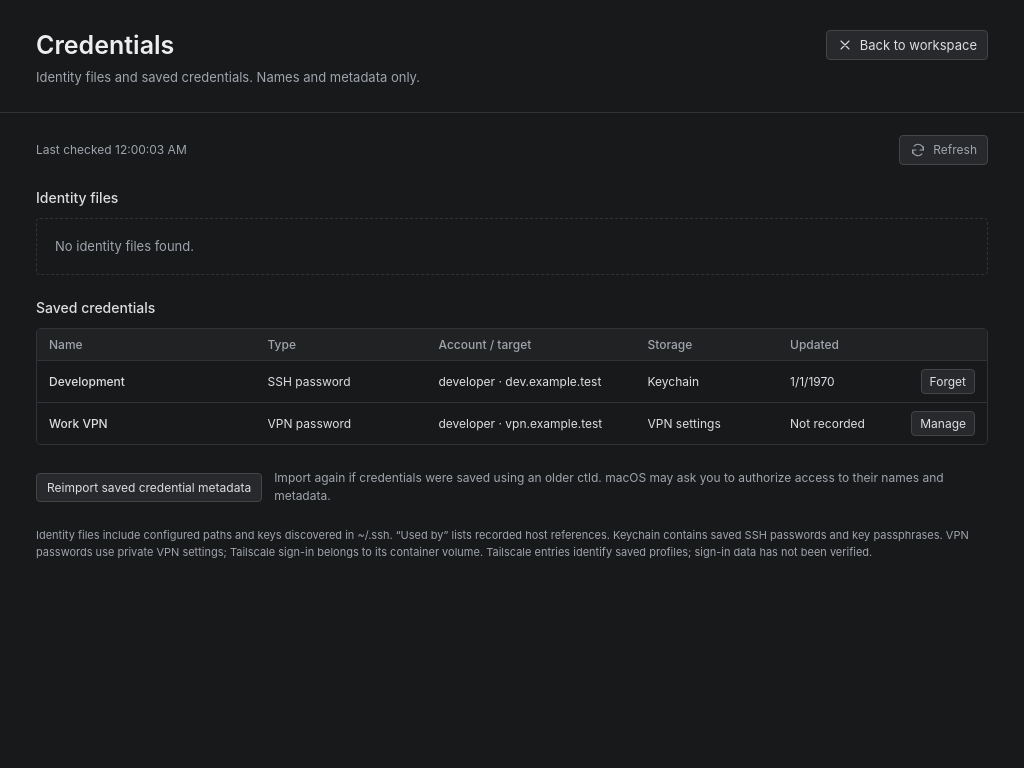
Test case: Credentials page › does not restore a forgotten item from an older in-flight refresh
Check: the table is shown, box [37,329,987,444]
Click the button "Refresh" at (944, 150), box [899,134,988,164]
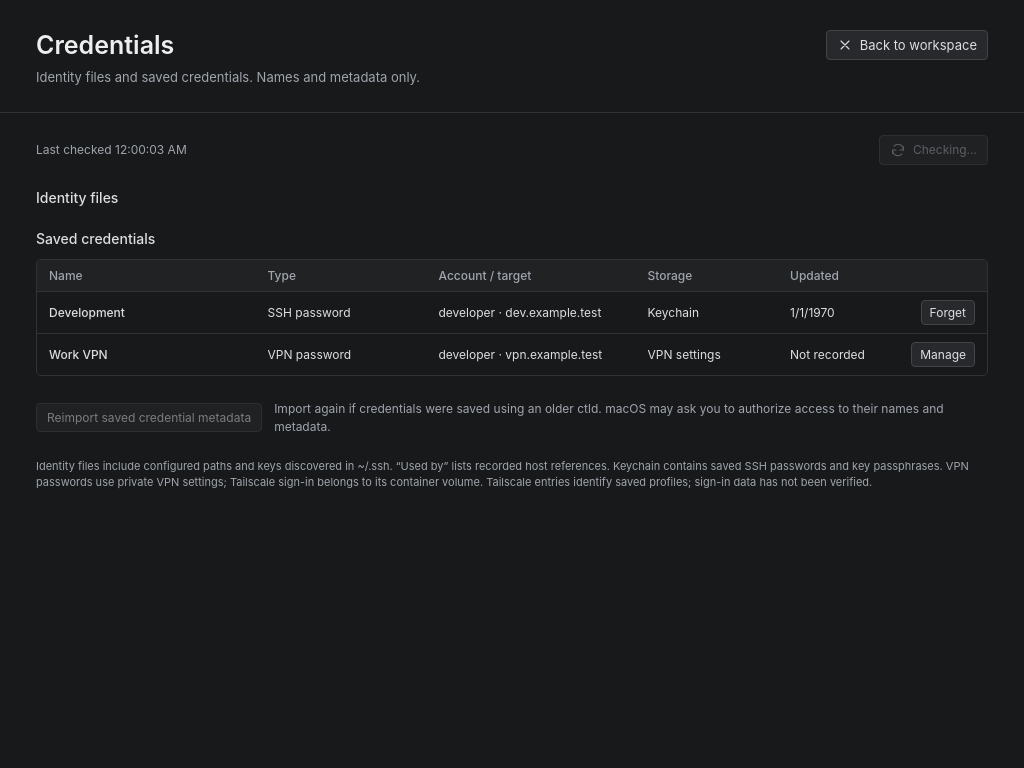
Click the button with aria-label "Forget Development" at (948, 312), box [921,300,975,324]
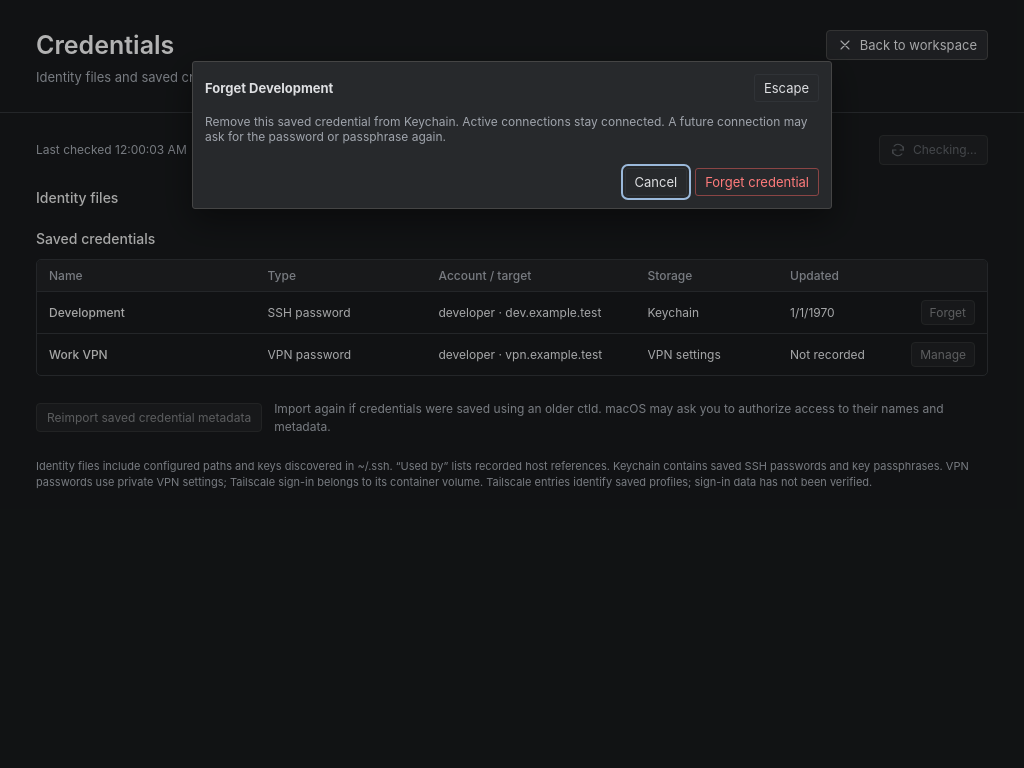
Click the button "Forget credential" at (757, 182), box [695,168,819,196]
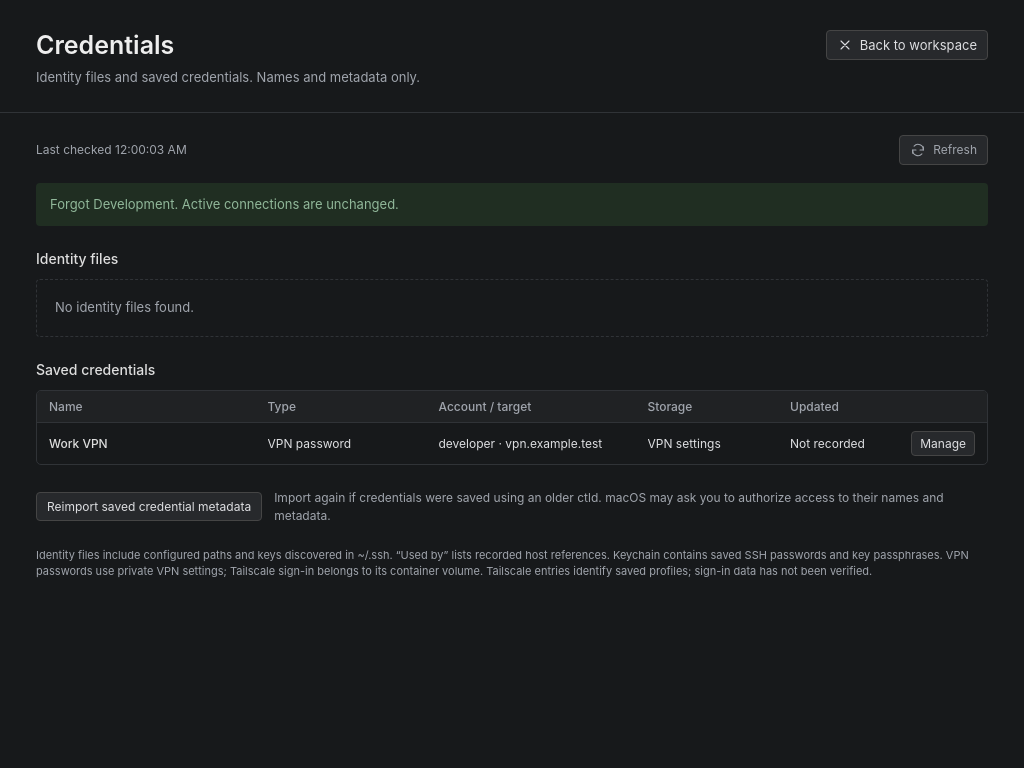
Check: the text "Forgot Development. Active connections are unchanged." is shown, box [36,182,988,226]
Check: the text "Forget Development" is gone
